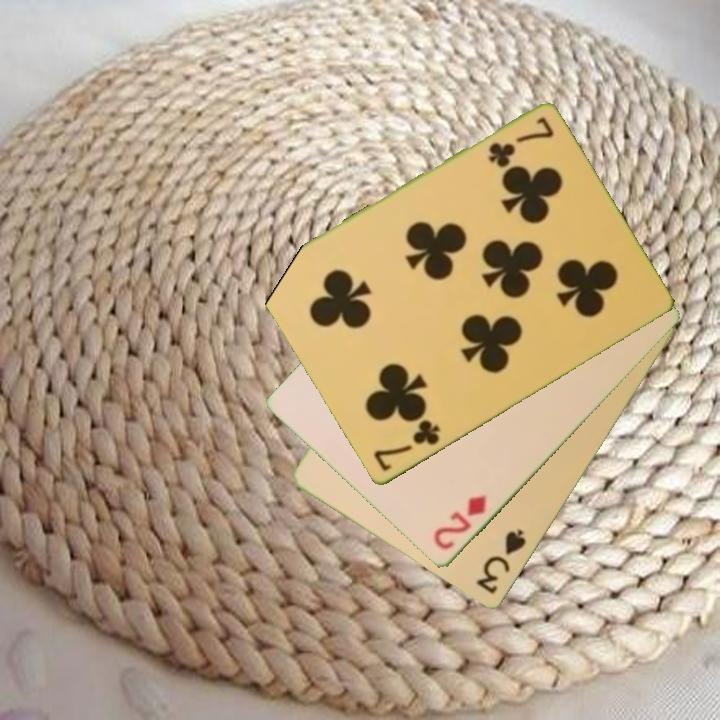2d: (430, 492, 490, 554)
3s: (472, 526, 530, 598)
7c: (370, 416, 443, 475), (484, 114, 557, 170)
